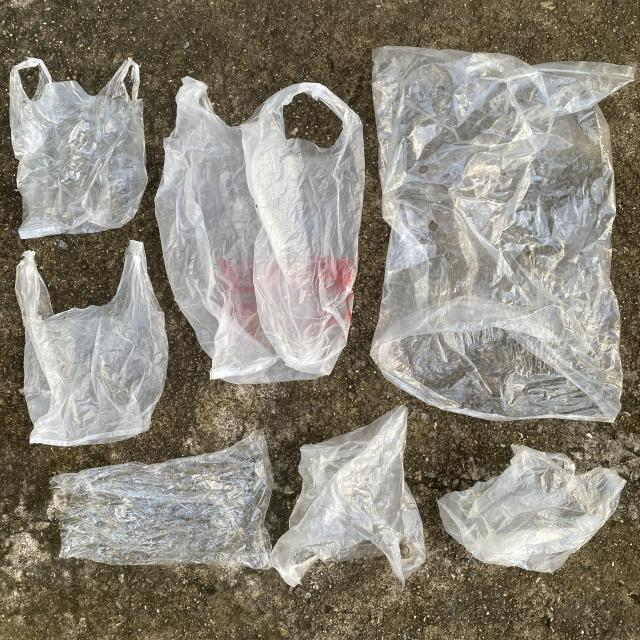Single-layer Plastic: (371, 46, 634, 422), (155, 78, 365, 384), (15, 240, 168, 446), (50, 431, 272, 569), (270, 406, 425, 586), (10, 58, 148, 239), (438, 445, 625, 572)
